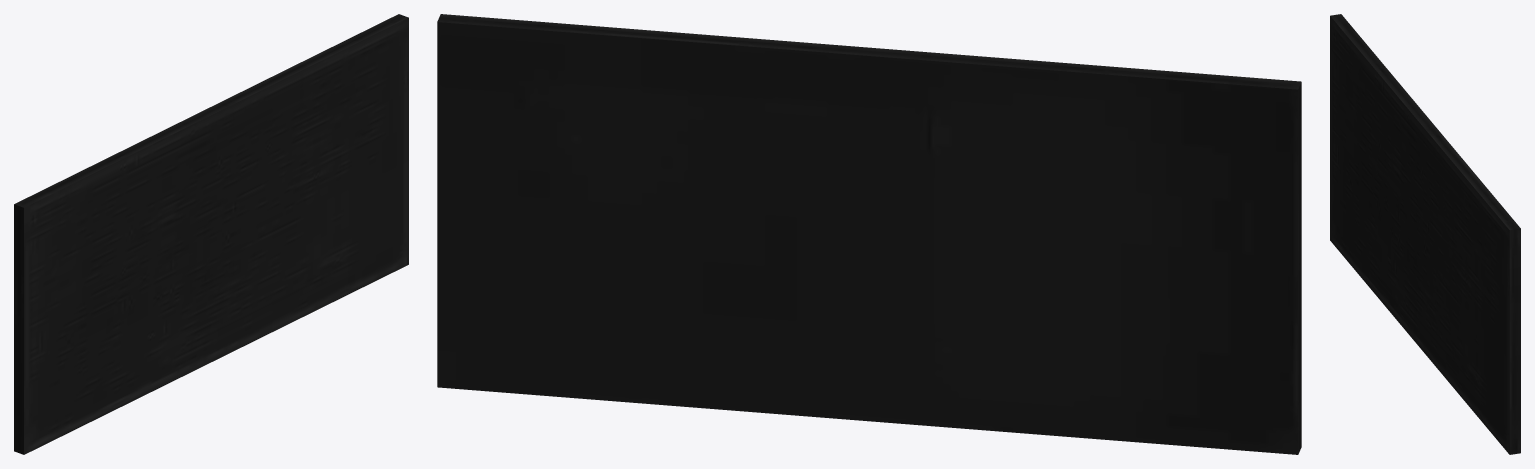
Rendered from backrest__back_board.glb.
3 views of the same model, side by side, from view 1: azimuth 30°, elevation 25°; view 2: azimuth 150°, elevation 25°; view 3: azimuth 270°, elevation 25° (orthographic). The views are drawn at different scales.
Visible parts, largest first — view 1: world; view 2: world; view 3: world.
Part boxes in pixels (x1,y1,x2,y2): world: [14, 14, 408, 454]; world: [437, 14, 1301, 454]; world: [1330, 14, 1520, 454].
Size of the model in its own units: 0.5986 by 0.29 by 0.2233.
Materials: 1 (1 with a texture image).
